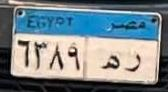3: (33, 38, 48, 72)
6: (16, 38, 33, 71)
8: (49, 41, 64, 72)
9: (67, 44, 82, 72)
haa: (101, 53, 121, 73)
raa: (122, 52, 142, 75)
